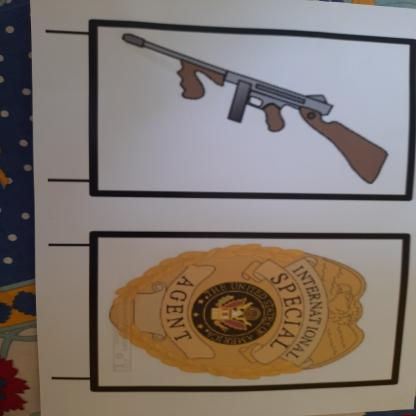Bootlegger: (113, 27, 406, 193)
G-man: (90, 237, 382, 385)
